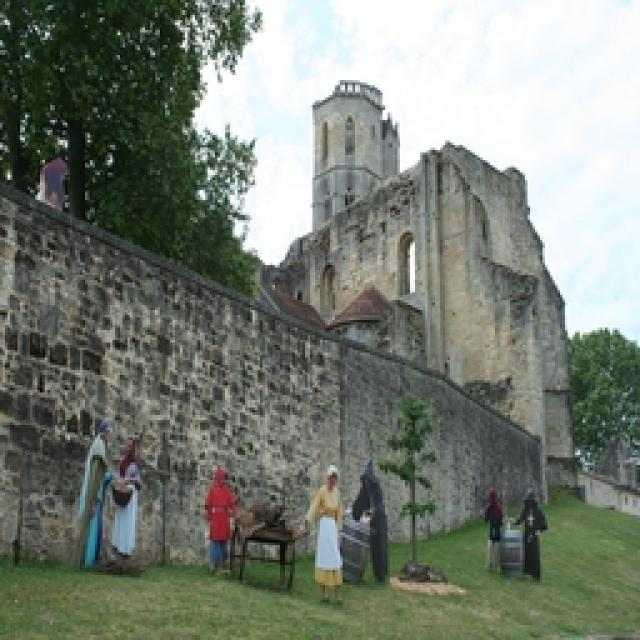Abbey: (279, 90, 560, 454)
